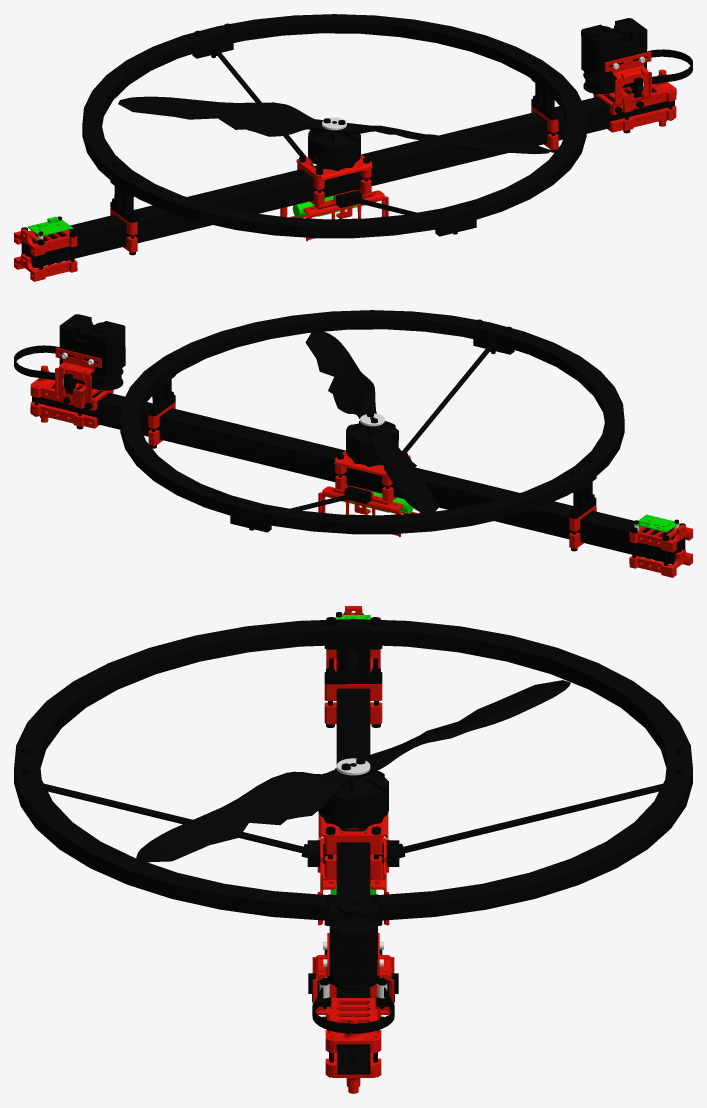
3 renders of one model, top to bottom at view 1: azimuth 30°, elevation 25°; view 2: azimuth 150°, elevation 25°; view 3: azimuth 270°, elevation 25°, orthographic. The views are drawn at different scales.
Visible parts, largest first — view 1: link1_balck_part, link1_red_part, link1_green_part; view 2: link1_balck_part, link1_red_part, link1_green_part; view 3: link1_balck_part, link1_red_part, link1_grey_part.
Part boxes in pixels (<box>): link1_balck_part: <box>21,14,692,269</box>; link1_red_part: <box>14,51,676,281</box>; link1_green_part: <box>27,195,365,236</box>; link1_balck_part: <box>14,310,685,565</box>; link1_red_part: <box>30,347,692,577</box>; link1_green_part: <box>331,491,679,532</box>; link1_balck_part: <box>14,612,692,1077</box>; link1_red_part: <box>312,606,394,1093</box>; link1_grey_part: <box>319,617,387,998</box>.
Bounding box in the file's own units: 0.6083 × 0.3997 × 0.1098.
